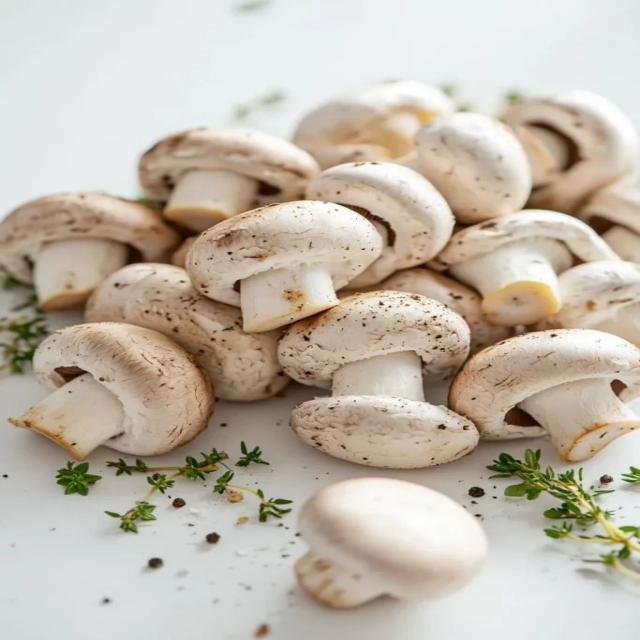champignon mushrooms: (279, 292, 478, 468), (10, 323, 214, 459), (86, 264, 287, 401), (186, 201, 382, 332), (449, 329, 639, 461), (296, 478, 487, 608), (433, 210, 618, 326), (0, 193, 178, 310), (307, 162, 454, 288), (139, 128, 318, 231), (504, 90, 638, 213), (294, 81, 454, 168), (416, 113, 531, 223), (379, 267, 512, 353), (536, 261, 639, 345), (579, 183, 639, 262), (171, 236, 196, 267)
